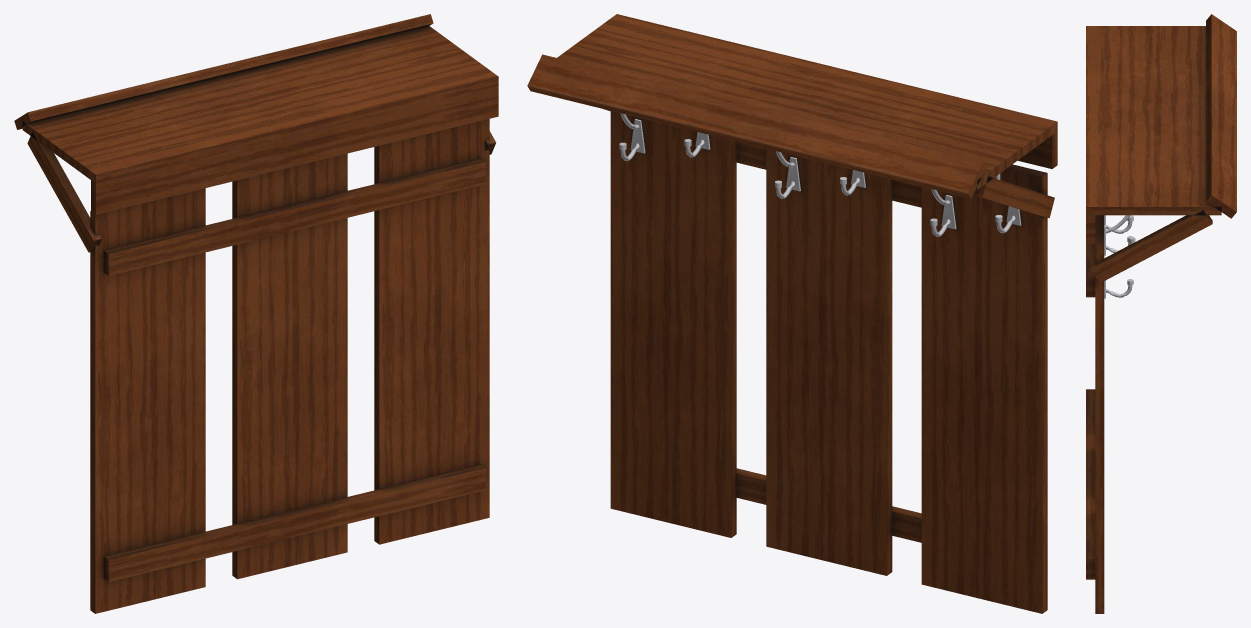
Rendered from hall_hanger_panels_web.glb.
3 views of the same model, side by side, from view 1: azimuth 30°, elevation 25°; view 2: azimuth 150°, elevation 25°; view 3: azimuth 270°, elevation 25° (orthographic). The views are drawn at different scales.
Parts seen in each view (by area): view 1: HallHangerPanels_Body; view 2: HallHangerPanels_Body, Chrome_Hooks; view 3: HallHangerPanels_Body, Chrome_Hooks.
Boxes of the visible parts, x1,y1,x2,y2 form: HallHangerPanels_Body: (14, 14, 498, 613); HallHangerPanels_Body: (527, 14, 1057, 613); Chrome_Hooks: (619, 113, 1021, 236); HallHangerPanels_Body: (1086, 14, 1236, 613); Chrome_Hooks: (1104, 215, 1135, 298).
Size of the model in its own units: 0.95 by 1.03 by 0.334.
Materials: 2 (2 with a texture image).
